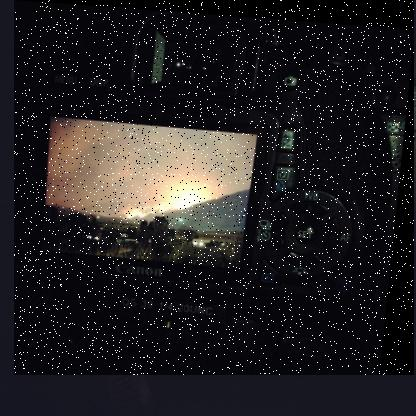Camera: (15, 1, 416, 377)
